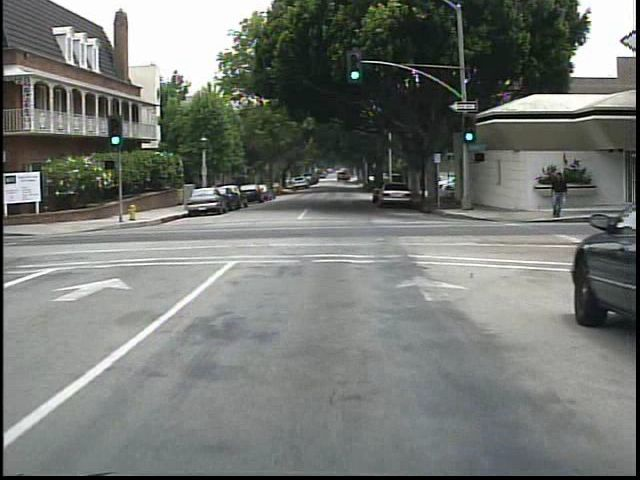person: (541, 169, 570, 222)
